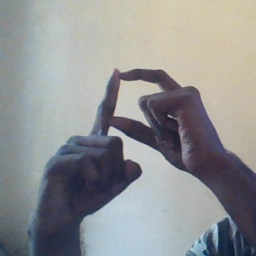D: (72, 63, 201, 177)
